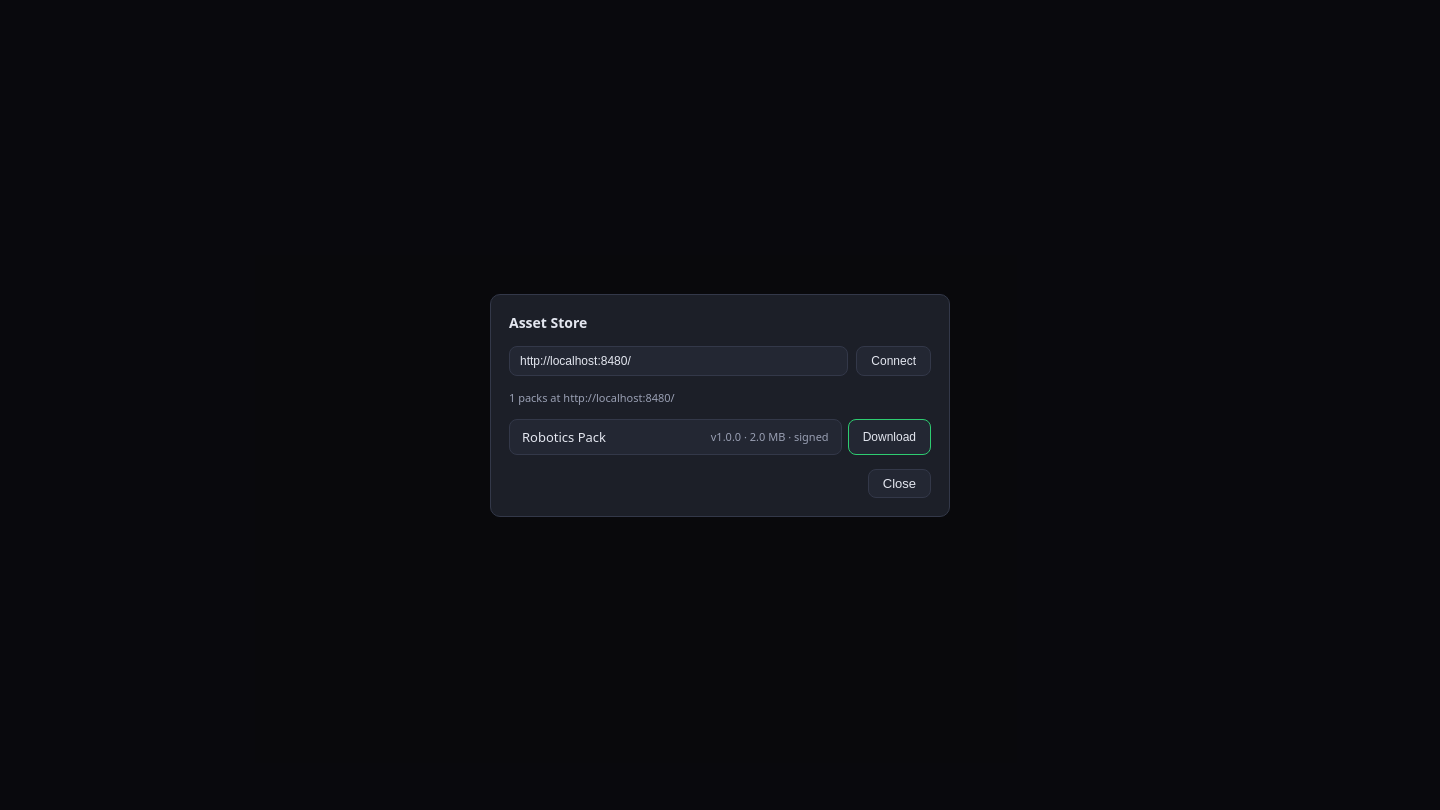
Test: AssetStore trust flow › installs a verified pack without asking
The image size is (1440, 810).
Click the button "Download".
click(889, 436)  # box [848, 418, 931, 454]
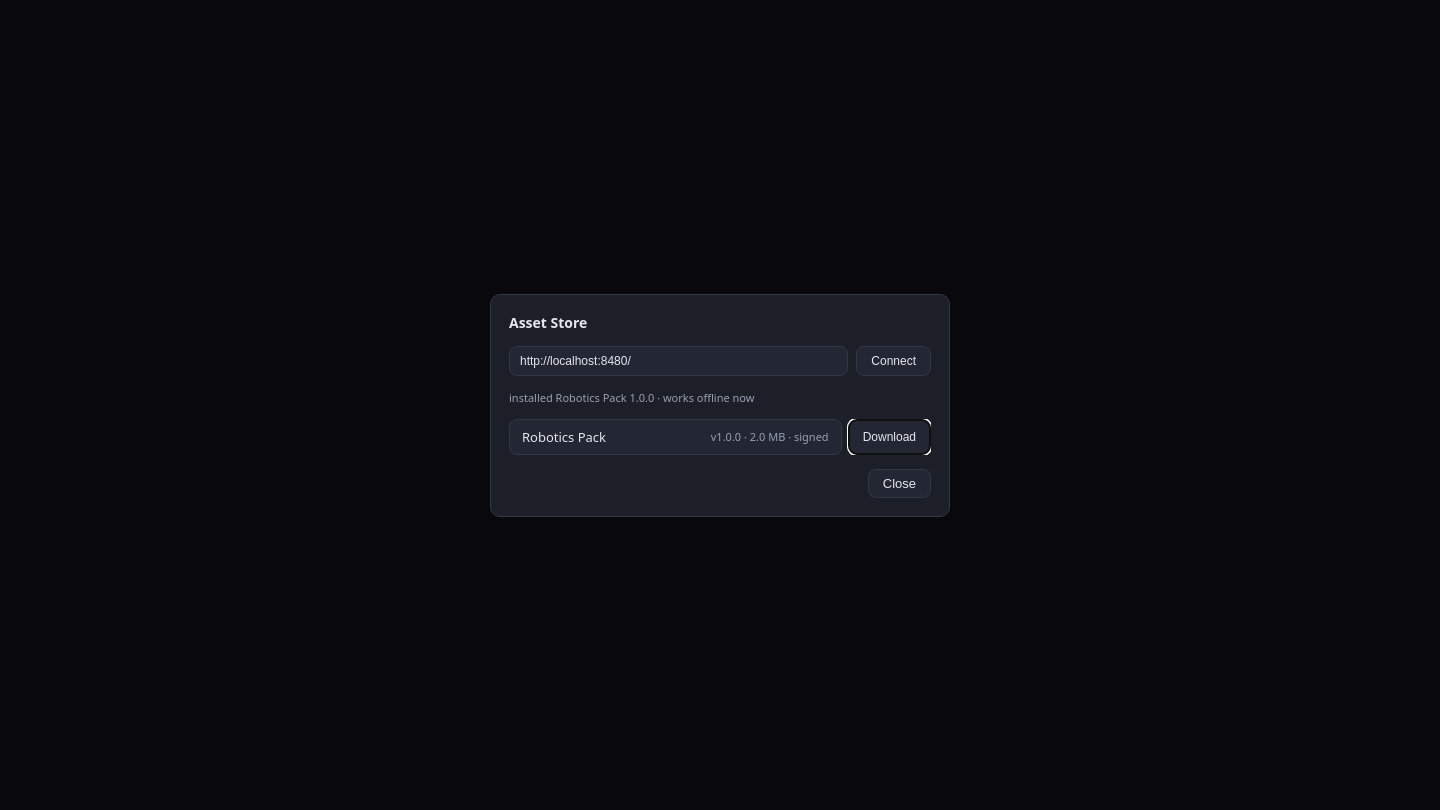
expect the text "installed Robotics Pack 1.0.0 · works offline now" is shown: met, box [509, 390, 754, 404]
